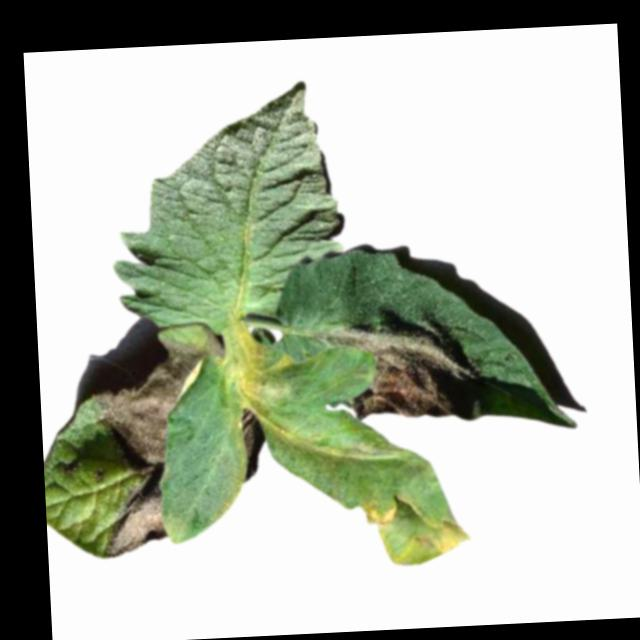Late_blight: (93, 339, 212, 558), (330, 314, 485, 428), (358, 488, 472, 568), (225, 337, 299, 422), (235, 404, 267, 482), (201, 327, 224, 361)
healthy: (100, 80, 346, 328)
